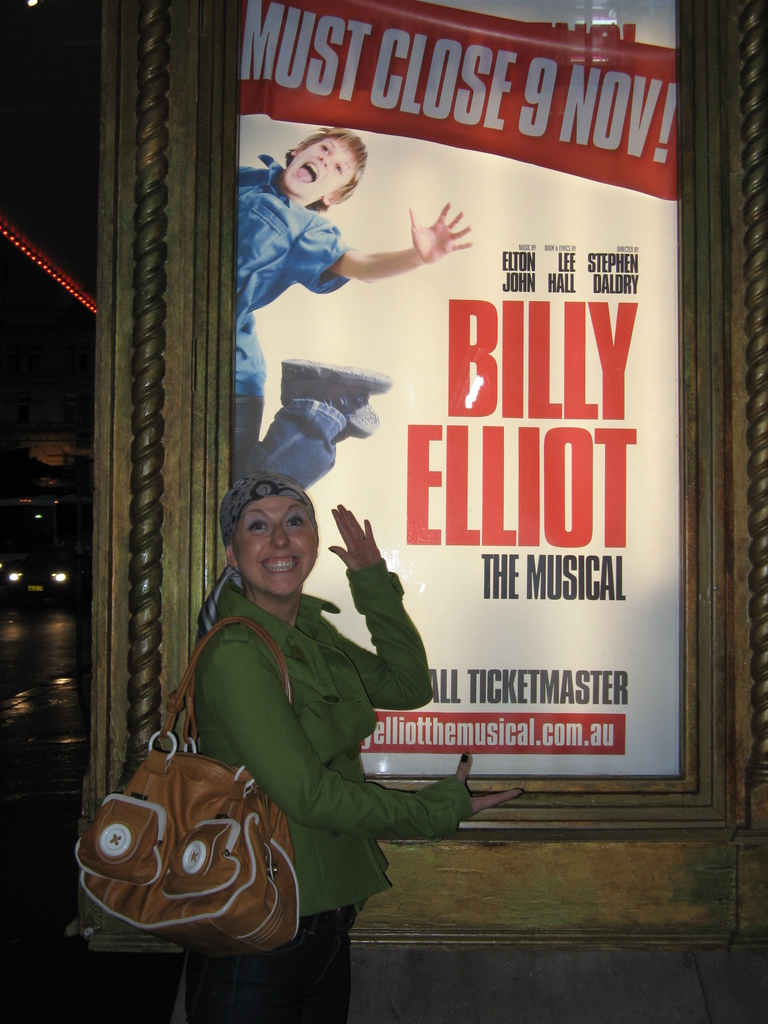Human_hand: (335, 510, 403, 611), (454, 750, 527, 817), (404, 199, 474, 266)
